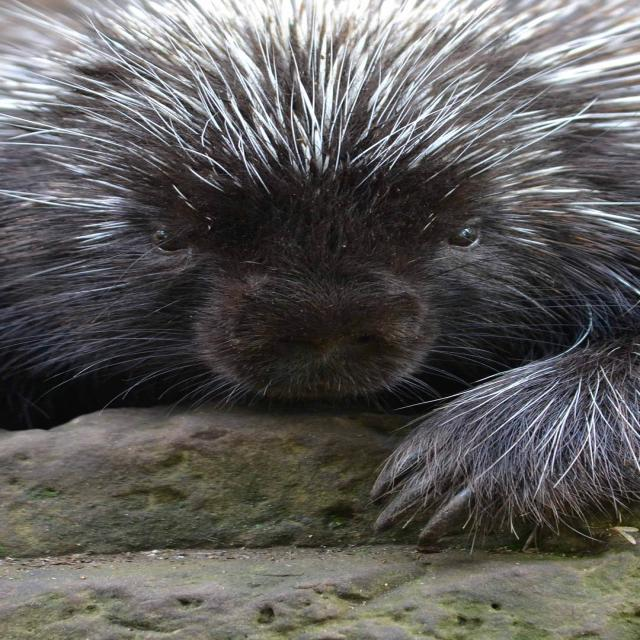Porcupine: (0, 0, 640, 523)
